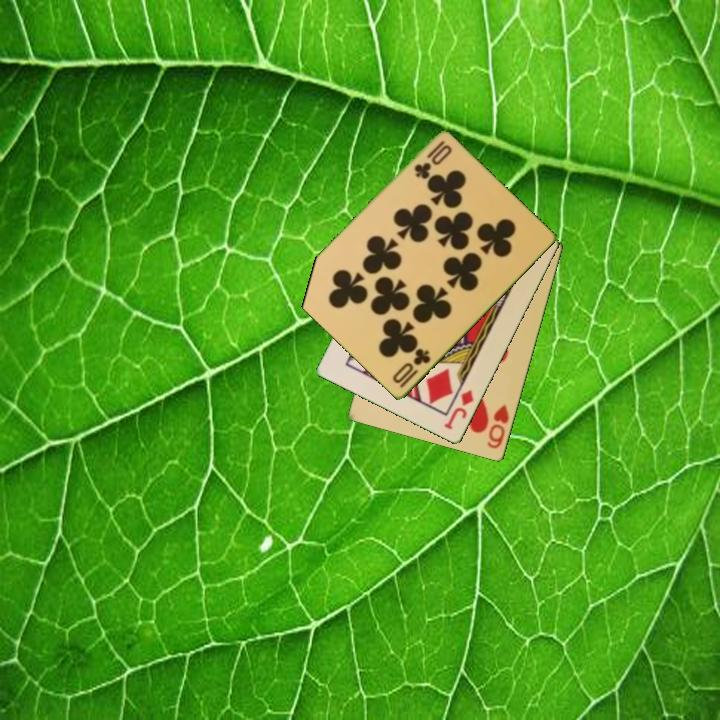10c: (389, 345, 434, 391), (411, 137, 455, 182)
6h: (483, 401, 512, 452)
Jd: (441, 386, 477, 433)
